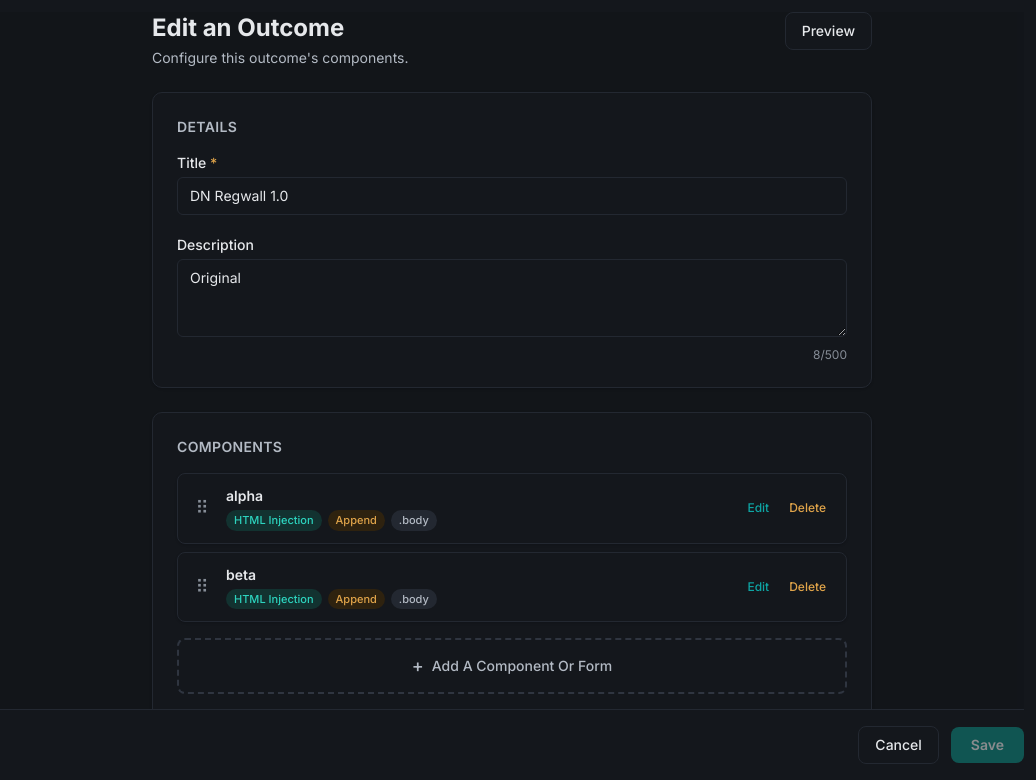
Test: OutcomeEditorPage › disables Save when there are no changes and when the title is empty
The width and height of the screenshot is (1036, 780).
Check: the button "Save" is disabled, box [951,727,1024,763]
Note: Make it dirty but invalid: clear the title.
Clear the field labelled "Title *": [512, 196] box [177,177,847,215]
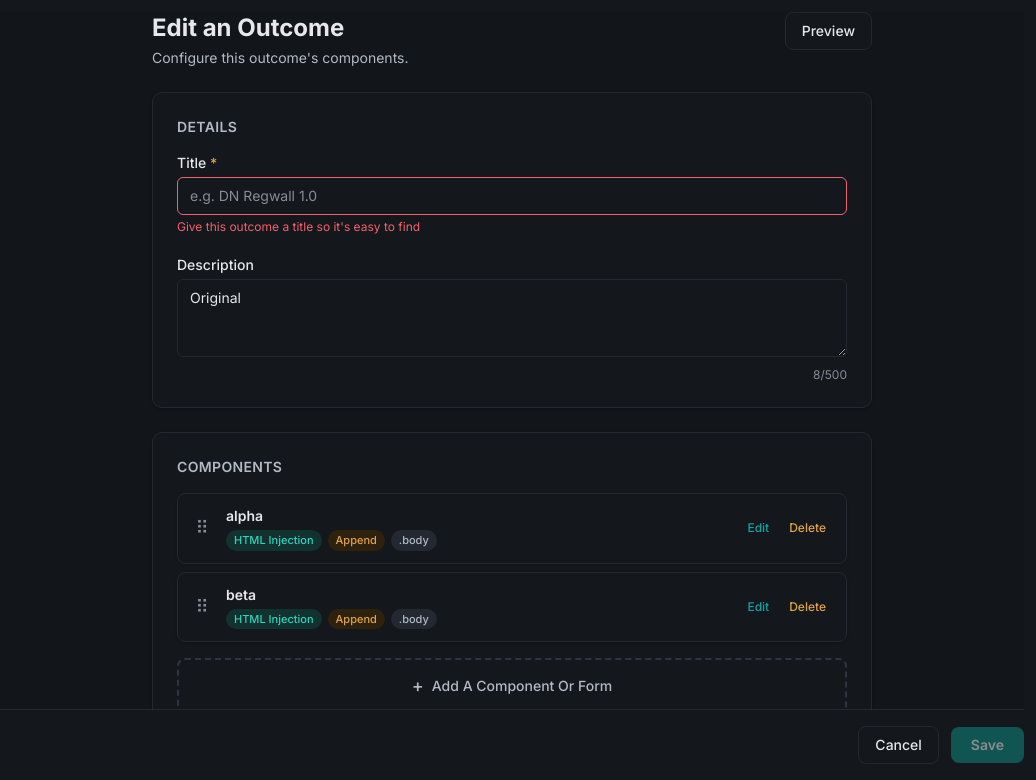
Check: the button "Save" is disabled, box [951,727,1024,763]
Check: the text "Give this outcome a title so it's easy to find" is shown, box [177,219,420,234]
Note: Valid edit re-enables Save.
In the field labelled "Title *": [512, 196] box [177,177,847,215], type "New Title"
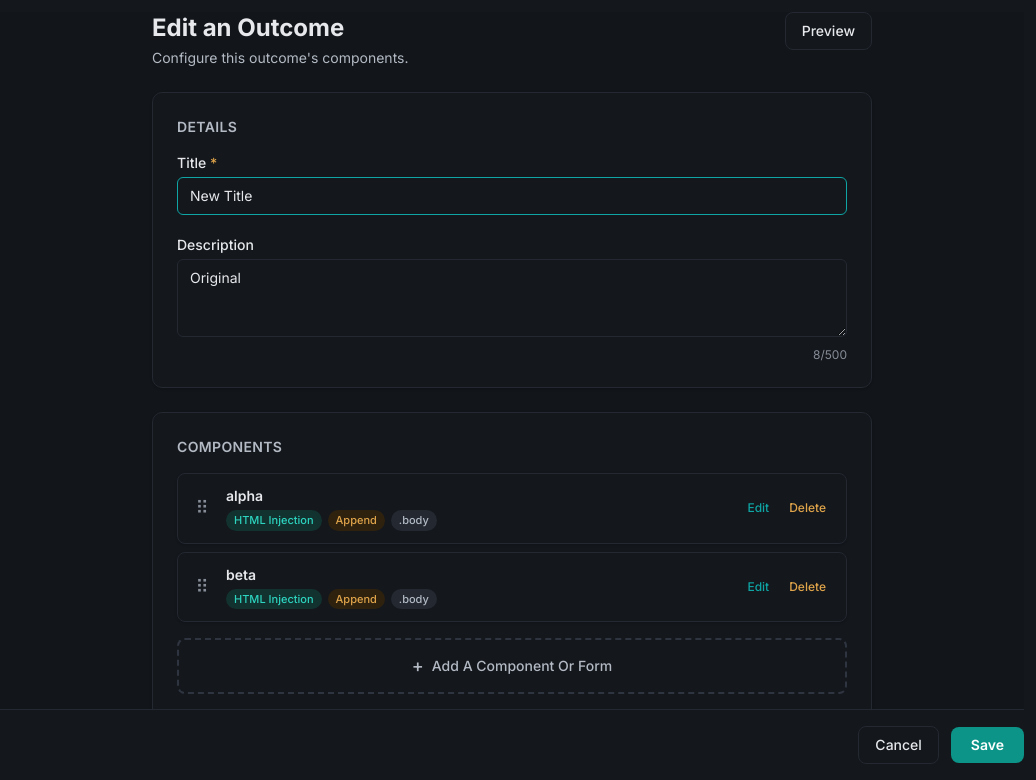
Check: the button "Save" is enabled, box [951,727,1024,763]
